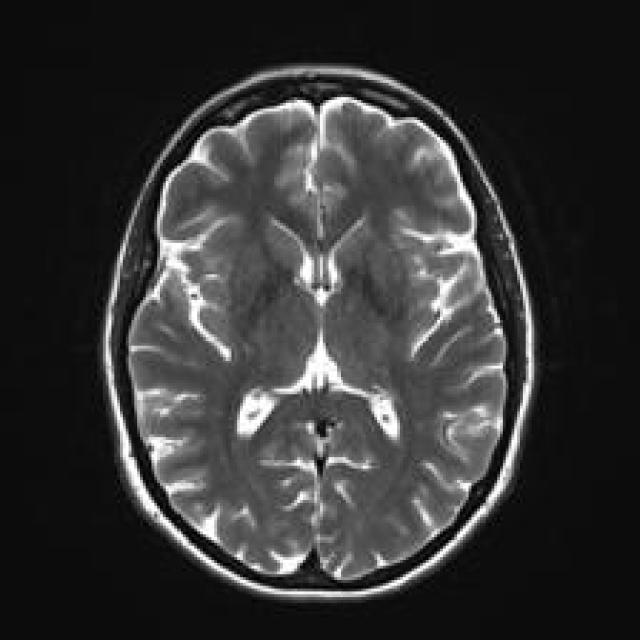no_tumor: (91, 59, 547, 612)
